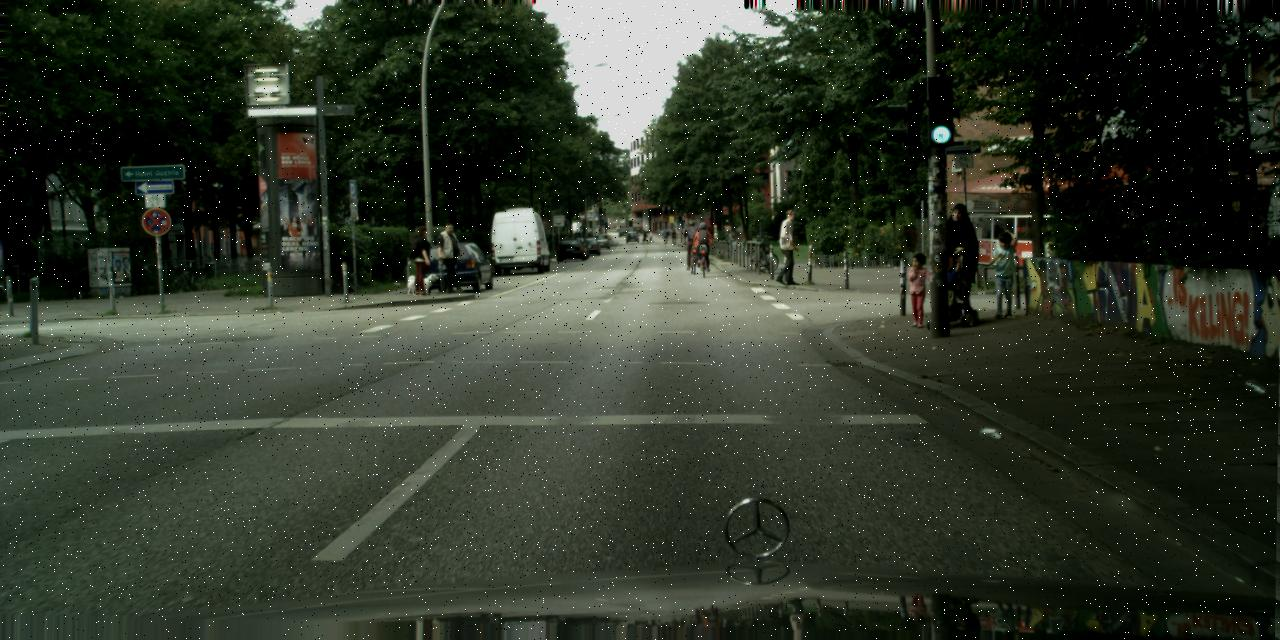ped: (935, 202, 982, 318), (986, 230, 1021, 318), (772, 209, 804, 285), (903, 252, 933, 326), (438, 222, 466, 292), (407, 225, 435, 294), (693, 221, 713, 269), (682, 218, 700, 262), (724, 228, 734, 256), (641, 229, 650, 244), (670, 229, 676, 242), (647, 230, 652, 242), (662, 228, 667, 240), (642, 232, 646, 242), (646, 228, 648, 232)
